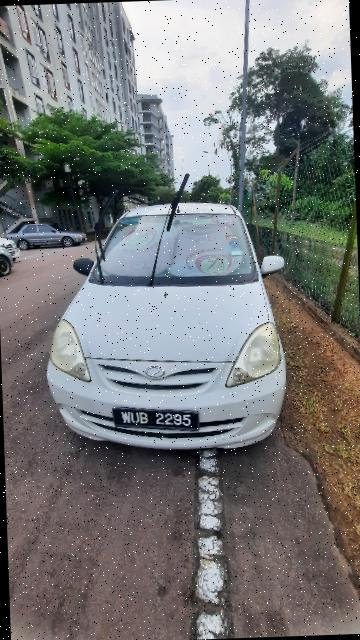License_Plate: (109, 399, 203, 438)
car: (37, 159, 300, 465)
